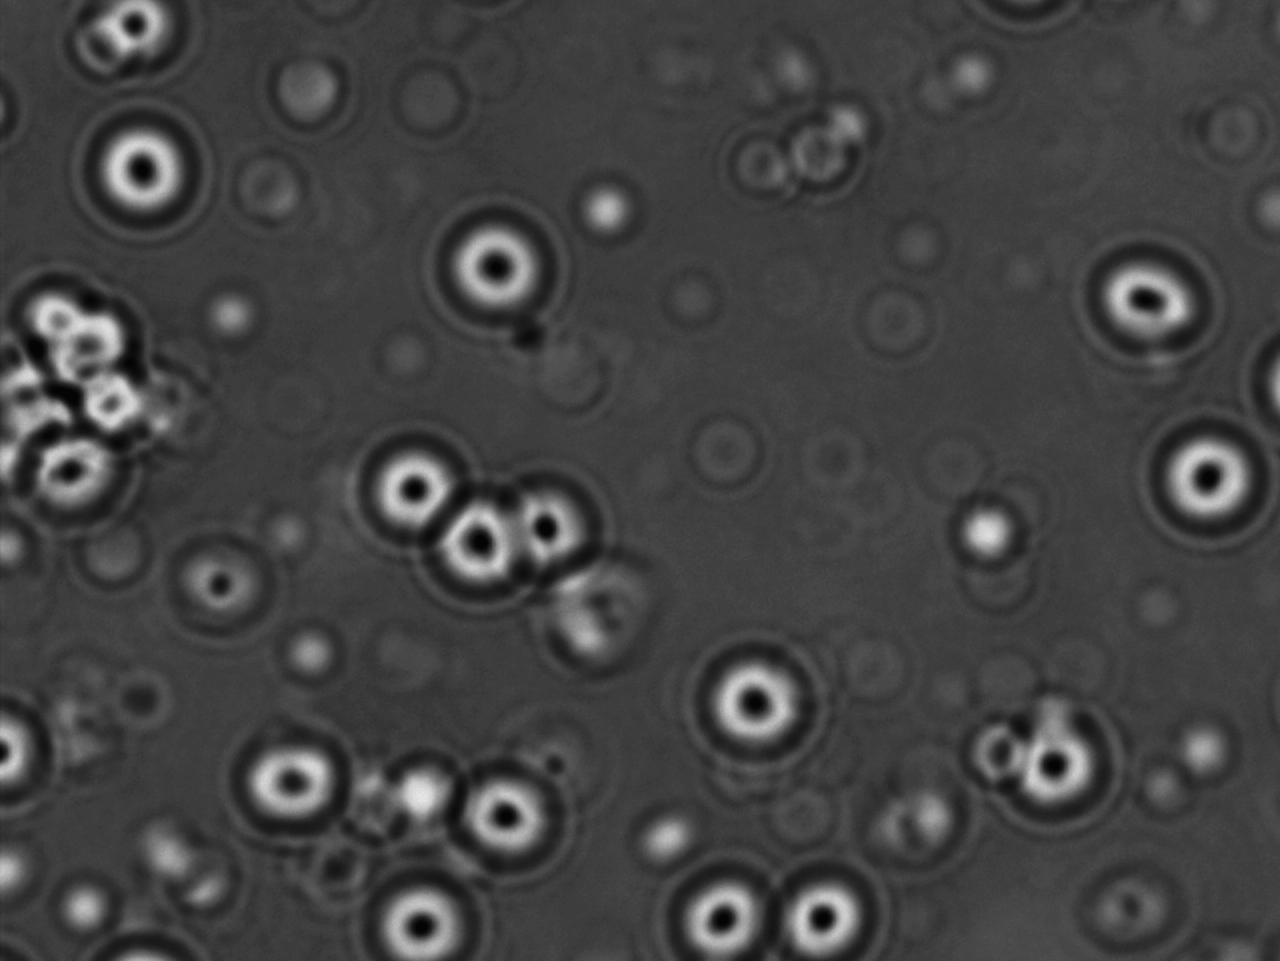depth:16: (417, 193, 568, 332), (67, 105, 209, 241), (1138, 412, 1273, 541), (347, 412, 481, 542), (1087, 240, 1220, 370), (694, 637, 826, 760), (452, 756, 581, 878), (499, 457, 617, 582), (415, 488, 537, 601), (231, 723, 346, 832), (669, 855, 787, 961), (772, 866, 895, 961), (361, 877, 472, 961)
